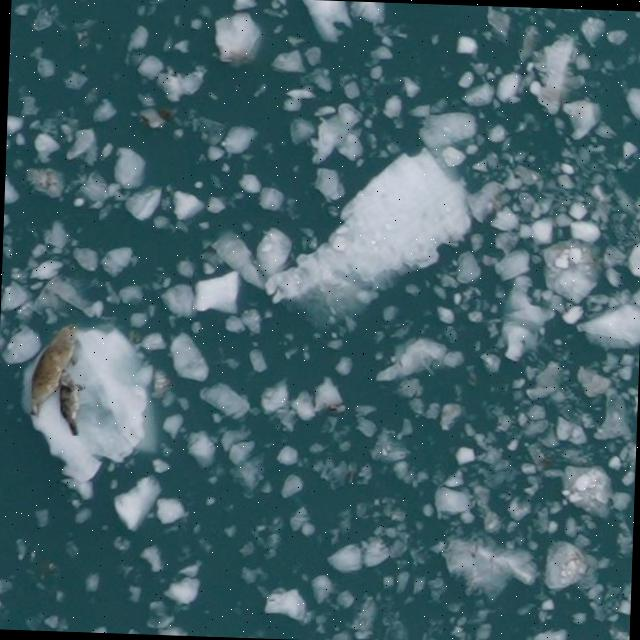seal: (7, 315, 94, 418), (59, 368, 84, 435)
